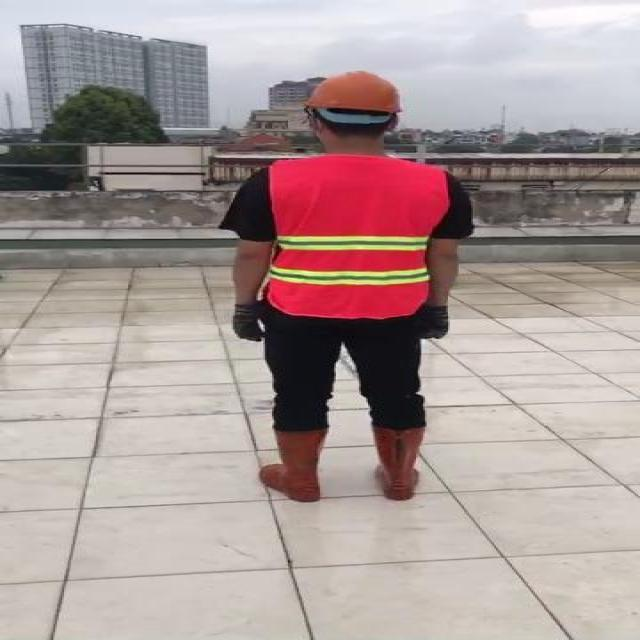boots: (256, 427, 327, 505), (369, 423, 426, 499)
hand_glove: (230, 304, 276, 342), (411, 306, 453, 338)
head_helmet: (300, 68, 409, 116)
person: (209, 67, 483, 509)
vest: (268, 155, 442, 316)
